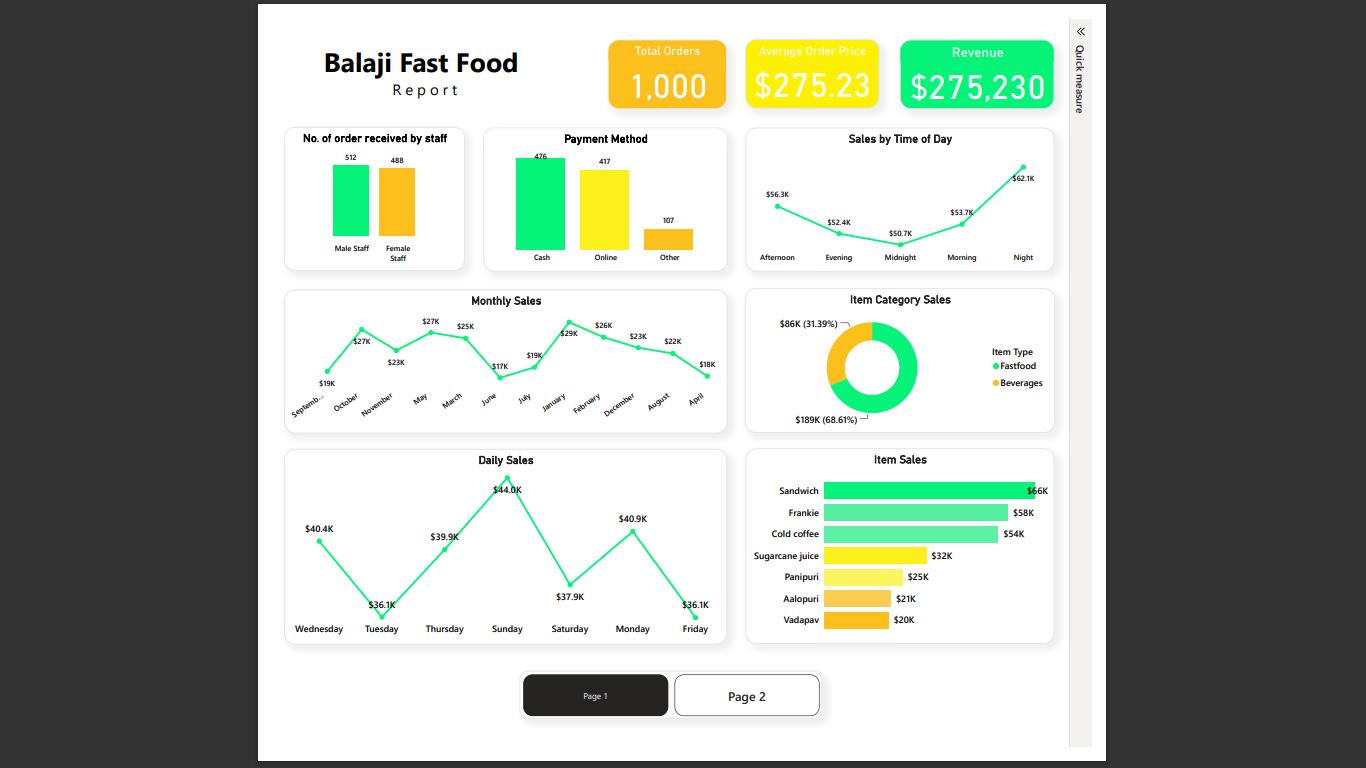

This screenshot's page, from the dashboard's own definition file:
{"tool":"powerbi","page":{"name":"Page 1","canvas":[1280,1000],"ordinal":0},"visuals":[{"type":"card","title":"Revenue","fields":{"Values":["Sum(total_revenue.total_revenue)"]},"box":[1005.7,14.3,247.1,111.4],"z":0},{"type":"card","title":"Total Orders","fields":{"Values":["Sum(total_count.count(*))"]},"box":[756.9,14.2,218.3,112],"z":1000},{"type":"columnChart","title":"No. of order received by staff","fields":{"Category":["receiving_staff.receiving_staff"],"Y":["Sum(receiving_staff.receiving_staff_no)"]},"box":[15.6,154.5,290.6,231.1],"z":2000},{"type":"lineChart","title":"Sales & Orders by Time of Day","fields":{"Category":["sales_time.time_of_sale"],"Y":["Sum(sales_time.tos_count)"],"Y2":["Sum(sales_tod_orderrevenue.dow_revenue)"]},"box":[756.9,154.9,496.1,231.4],"z":3000},{"type":"lineChart","title":"Monthly Sales and Order","fields":{"Y":["Sum(sales_month.moy_count)"],"Category":["sales_month.monthofyear"],"Y2":["Sum(sales_moy_orderrevenue.moy_revenue)"]},"box":[16.1,415.6,711.2,230.3],"z":4000},{"type":"lineChart","title":"Daily Sales and Order","fields":{"Category":["sales_dow.dayofweek"],"Y":["Sum(sales_dow.dow_count)"],"Y2":["Sum(sales_dow_orderrevenue.dow_revenue)"]},"box":[15.7,670.6,711.8,313.7],"z":5000},{"type":"donutChart","title":"Sales by Item Type","fields":{"Y":["Sum(item_types_2.item_type_price)"],"Category":["item_types.item_type"]},"box":[756.9,415.7,496.1,231.4],"z":6000},{"type":"columnChart","title":"Payment Method","fields":{"Category":["method_of_payment.transaction_type"],"Y":["Sum(method_of_payment.transaction_no)"]},"box":[335.3,154.9,392.2,231.4],"z":7000},{"type":"card","title":"Average Order Price","fields":{"Values":["Sum(avg_orderprice.average_orderprice)"]},"box":[491.9,12.8,235.3,112],"z":9000},{"type":"barChart","title":"Item Purchase","fields":{"Category":["purchased_items (2).item_name"],"Y":["Sum(purchased_items (2).item_purchase)"]},"box":[756.9,670.6,496.1,313.7],"z":10000},{"type":"textbox","box":[15.9,13,452.2,113],"z":11000}]}

Visuals, with their boxes on the page's 1280x1000 design canvas (x1, y1, x2, y2). These are canvas units, not pixel positions in the 1366x768 screenshot, which may show the page scaled, cropped or inside an application window:
"Revenue" card: select_region(1006, 14, 1253, 126)
"Total Orders" card: select_region(757, 14, 975, 126)
"No. of order received by staff" columnChart: select_region(16, 154, 306, 386)
"Sales & Orders by Time of Day" lineChart: select_region(757, 155, 1253, 386)
"Monthly Sales and Order" lineChart: select_region(16, 416, 727, 646)
"Daily Sales and Order" lineChart: select_region(16, 671, 728, 984)
"Sales by Item Type" donutChart: select_region(757, 416, 1253, 647)
"Payment Method" columnChart: select_region(335, 155, 728, 386)
"Average Order Price" card: select_region(492, 13, 727, 125)
"Item Purchase" barChart: select_region(757, 671, 1253, 984)
textbox: select_region(16, 13, 468, 126)
